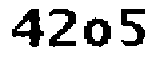2: (46, 2, 82, 57)
4: (5, 4, 44, 54)
5: (111, 3, 153, 54)
o: (84, 18, 112, 51)
